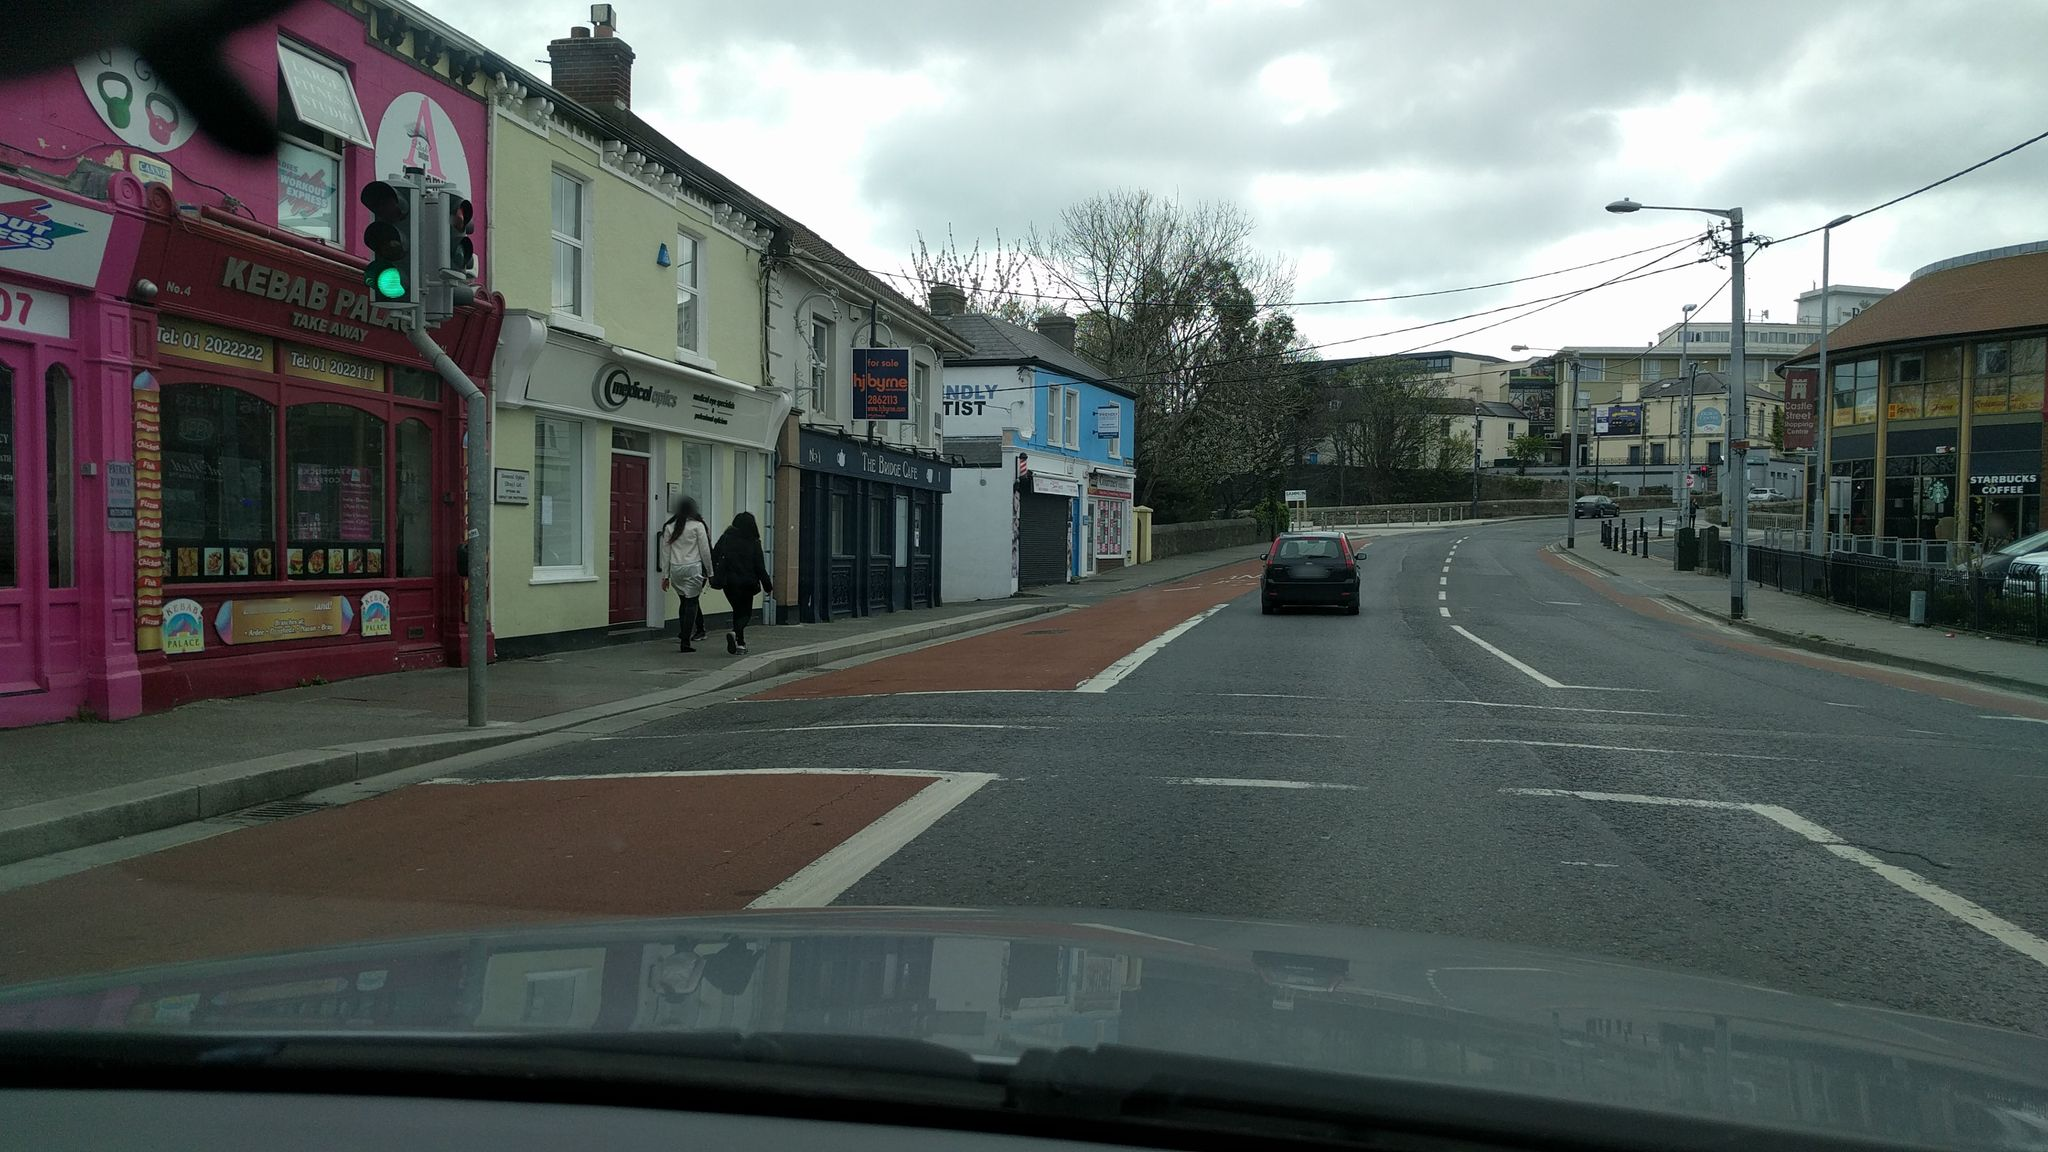property sign: (833, 331, 917, 442)
